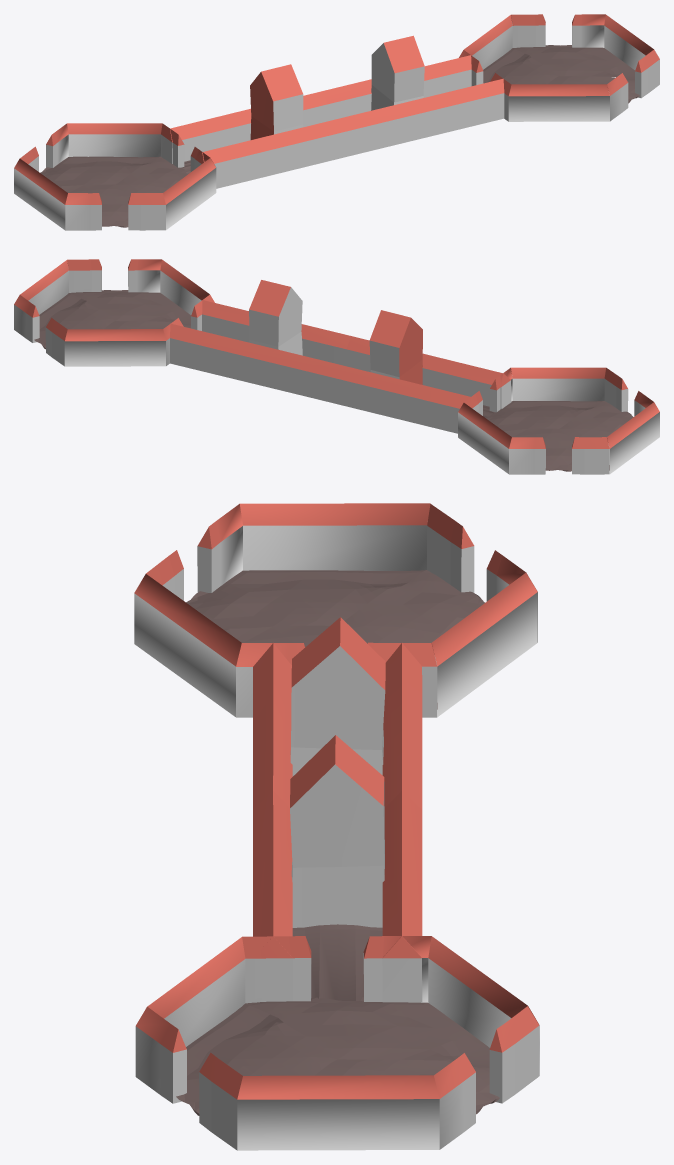
The model's file is street_small_placa.fbx.
3 renders of one model, top to bottom at view 1: azimuth 30°, elevation 25°; view 2: azimuth 150°, elevation 25°; view 3: azimuth 270°, elevation 25°, orthographic. The views are drawn at different scales.
Parts seen in each view (by area): view 1: street.001, placa_gorund.001, placa_gorund.002, churchdoor, churchdoor.001; view 2: street.001, placa_gorund.001, placa_gorund.002, churchdoor.001, churchdoor; view 3: placa_gorund.002, placa_gorund.001, street.001, churchdoor.001, churchdoor.
Boxes of the visible parts, x1,y1,x2,y2 form: street.001: [162, 55, 504, 188]; placa_gorund.001: [14, 123, 216, 230]; placa_gorund.002: [459, 14, 659, 121]; churchdoor: [250, 64, 303, 139]; churchdoor.001: [371, 35, 424, 110]; street.001: [170, 300, 511, 433]; placa_gorund.001: [458, 367, 659, 474]; placa_gorund.002: [14, 259, 214, 366]; churchdoor.001: [249, 280, 302, 355]; churchdoor: [369, 310, 422, 384]; placa_gorund.002: [135, 936, 539, 1150]; placa_gorund.001: [134, 503, 537, 717]; street.001: [253, 642, 422, 1002]; churchdoor.001: [290, 735, 384, 927]; churchdoor: [290, 617, 385, 776].
Size of the model in its own units: 133 by 18.26 by 39.37.
